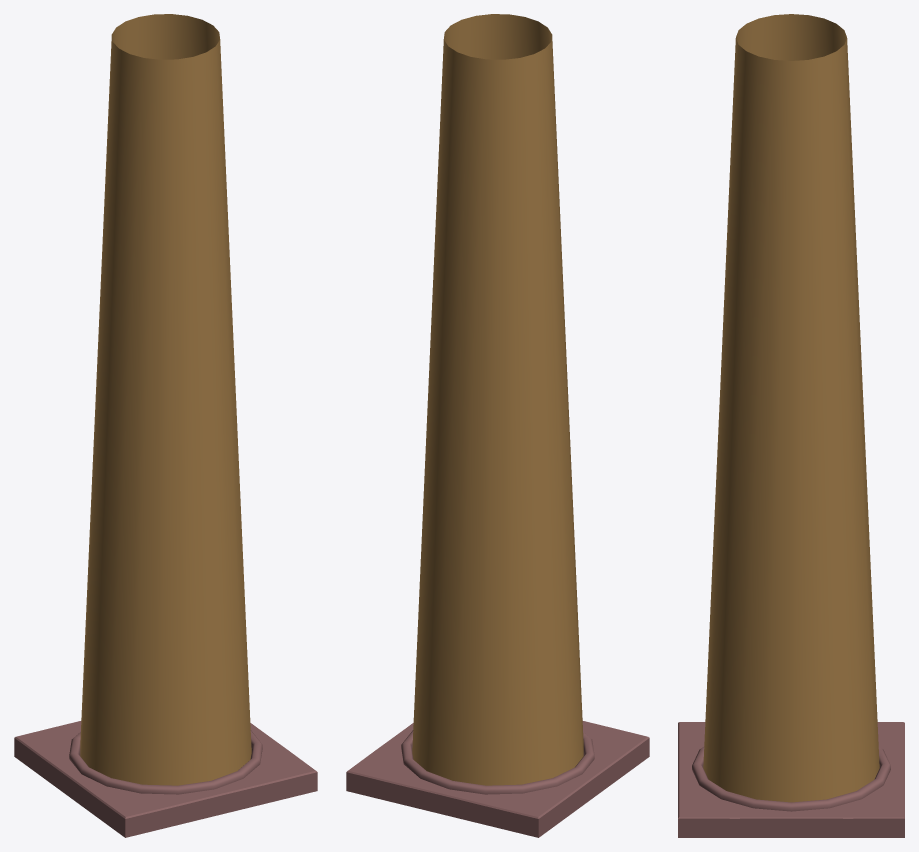
The model's file is FBX_Hazard_FloorFire_Base.fbx.
3 renders of one model, left to right at view 1: azimuth 30°, elevation 25°; view 2: azimuth 150°, elevation 25°; view 3: azimuth 270°, elevation 25°, orthographic. The views are drawn at different scales.
Visible parts, largest first — view 1: Hazard_FloorFire_Fire_Base, Hazard_FloorFire_Base; view 2: Hazard_FloorFire_Fire_Base, Hazard_FloorFire_Base; view 3: Hazard_FloorFire_Fire_Base, Hazard_FloorFire_Base.
Boxes of the visible parts, x1,y1,x2,y2 form: Hazard_FloorFire_Fire_Base: [80, 14, 251, 785]; Hazard_FloorFire_Base: [14, 721, 317, 837]; Hazard_FloorFire_Fire_Base: [412, 14, 583, 785]; Hazard_FloorFire_Base: [346, 721, 649, 837]; Hazard_FloorFire_Fire_Base: [703, 14, 879, 802]; Hazard_FloorFire_Base: [678, 722, 904, 837].
Size of the model in its own units: 100 by 366 by 100.
